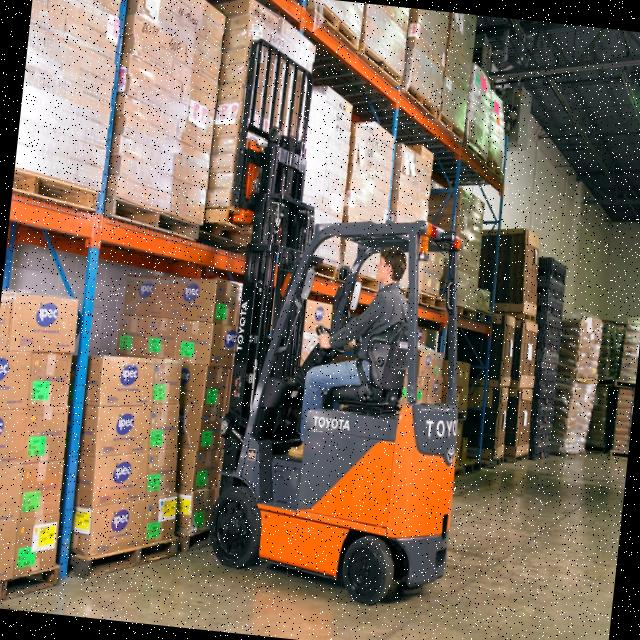Person: (287, 239, 415, 466)
